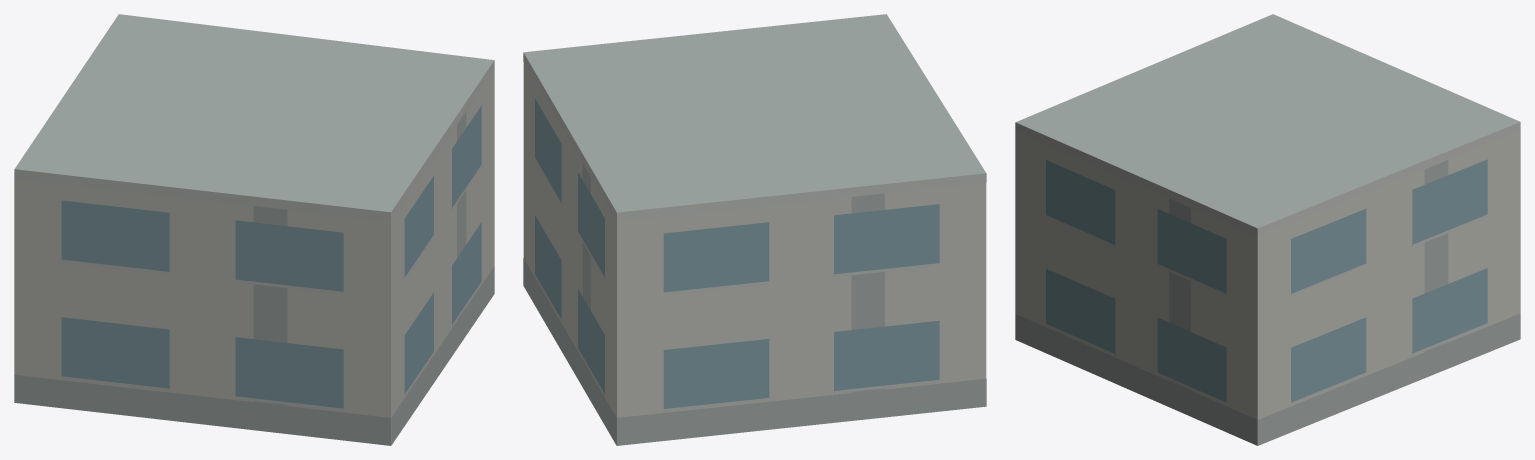
File: survey-upis-32753564.glb
3 renders of one model, left to right at view 1: azimuth 30°, elevation 25°; view 2: azimuth 150°, elevation 25°; view 3: azimuth 270°, elevation 25°, orthographic. The views are drawn at different scales.
Parts seen in each view (by area): view 1: survey-upis-32753564.tmp; view 2: survey-upis-32753564.tmp; view 3: survey-upis-32753564.tmp.
Boxes of the visible parts, x1,y1,x2,y2 form: survey-upis-32753564.tmp: (14,14,494,445); survey-upis-32753564.tmp: (523,14,986,445); survey-upis-32753564.tmp: (1015,14,1520,445).
Bounding box in the file's own units: 12.9 × 6.1 × 12.85.
